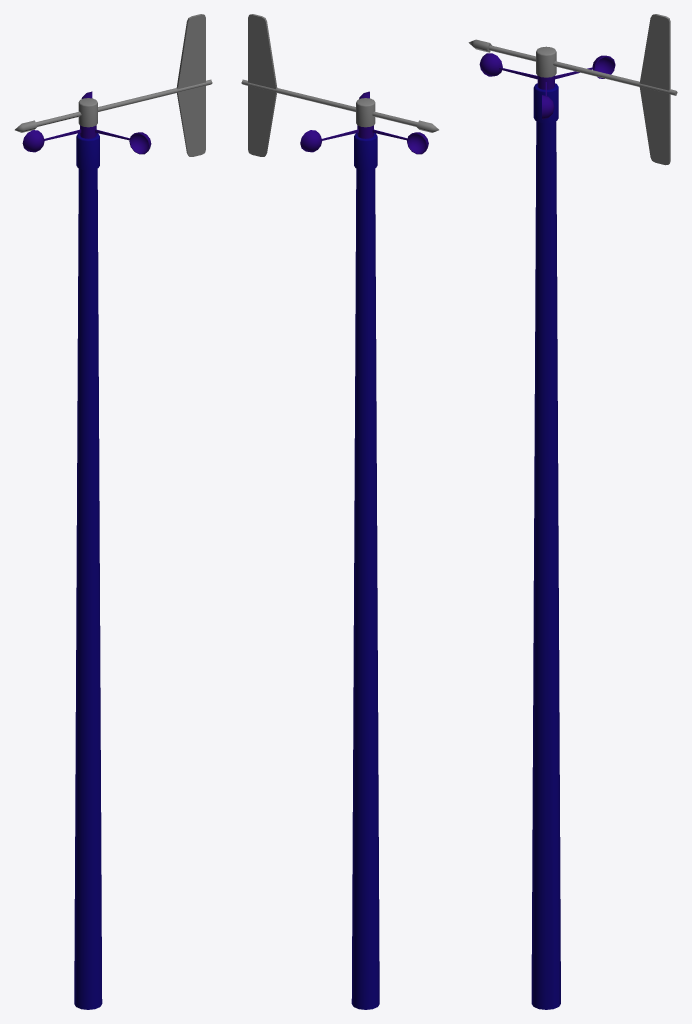
File: SM_Anemometre.fbx
The picture shows the model from 3 angles, left to right: view 1: azimuth 30°, elevation 25°; view 2: azimuth 150°, elevation 25°; view 3: azimuth 330°, elevation 25°; orthographic projection. The views are drawn at different scales.
Visible parts, largest first — view 1: SM_Anemometre_Pillar, SM_Anemometre_Vane, SM_Anemometre; view 2: SM_Anemometre_Pillar, SM_Anemometre_Vane, SM_Anemometre; view 3: SM_Anemometre_Pillar, SM_Anemometre_Vane, SM_Anemometre.
Boxes of the visible parts, box(x1,y1,x2,y2) form: SM_Anemometre_Pillar: box(74, 133, 102, 1009); SM_Anemometre_Vane: box(15, 14, 212, 156); SM_Anemometre: box(22, 91, 151, 154); SM_Anemometre_Pillar: box(351, 133, 379, 1009); SM_Anemometre_Vane: box(241, 14, 438, 156); SM_Anemometre: box(300, 91, 428, 154); SM_Anemometre_Pillar: box(531, 83, 560, 1009); SM_Anemometre_Vane: box(468, 14, 677, 165); SM_Anemometre: box(479, 53, 615, 119).
Bounding box in the file's own units: 95.99 × 448 × 54.37.
